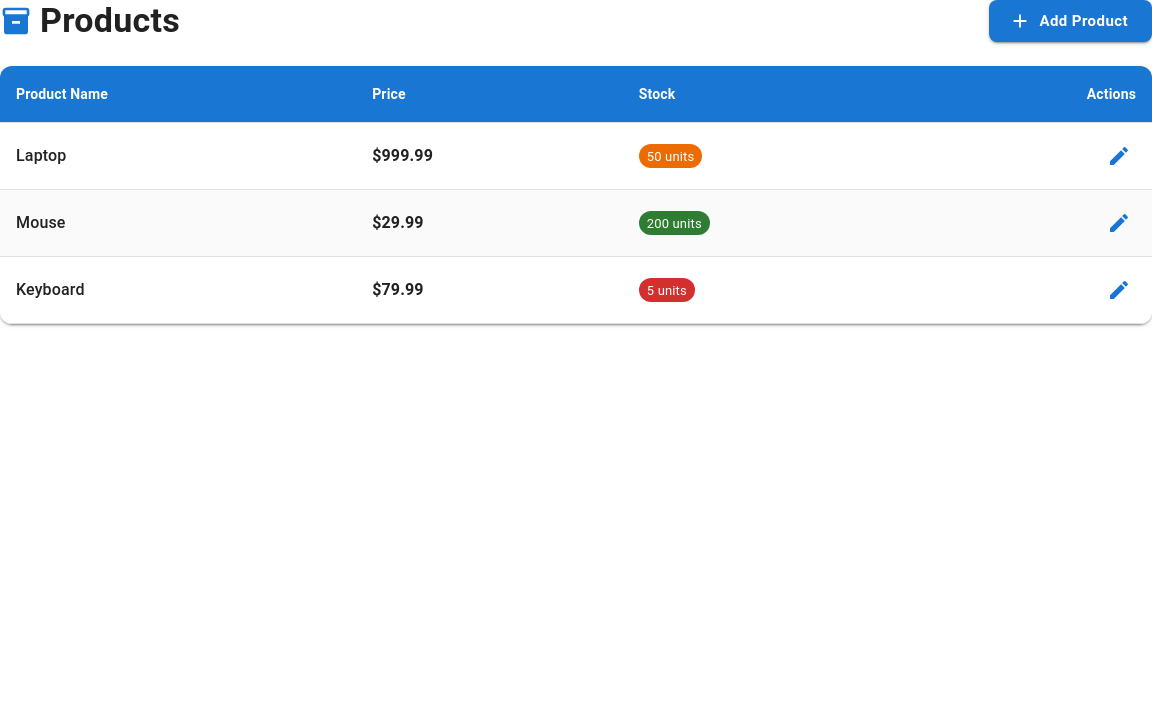
Test: ProductList Component › opens add product dialog when Add Product button is clicked
Expected: the text "Laptop" is shown, [16,146,66,165]
Click the button "Add Product": click(1071, 21) [989,0,1151,42]
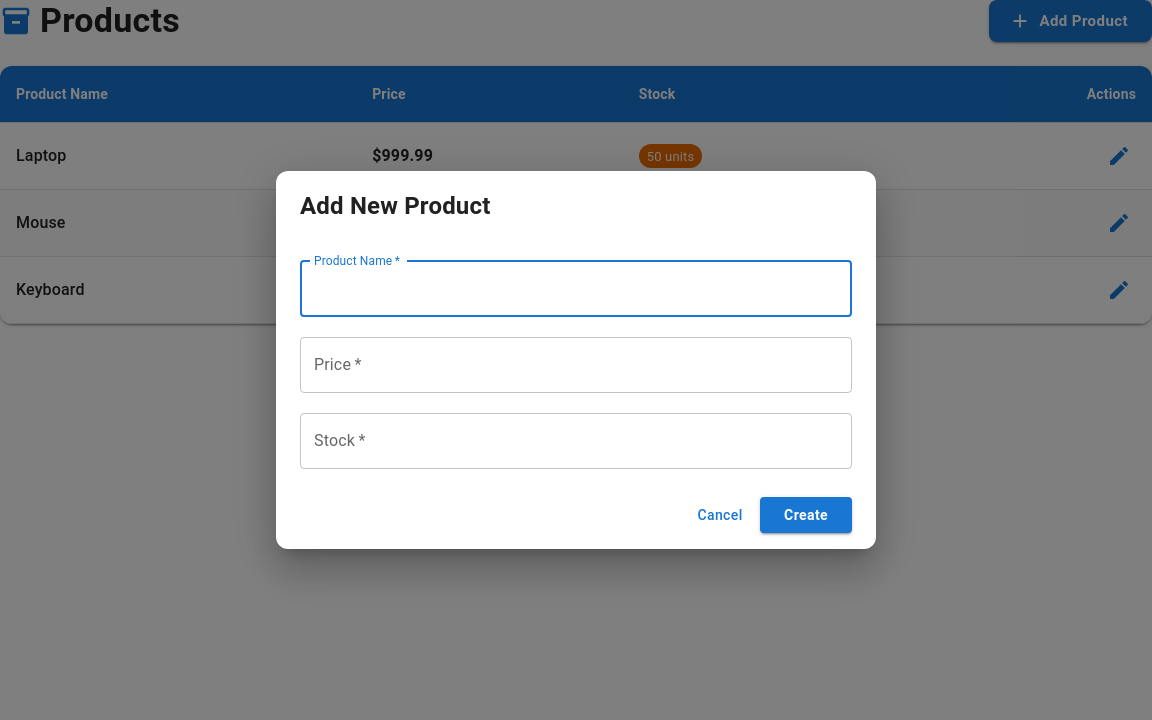
Expected: the heading "Add New Product" is shown, [300,192,490,220]
